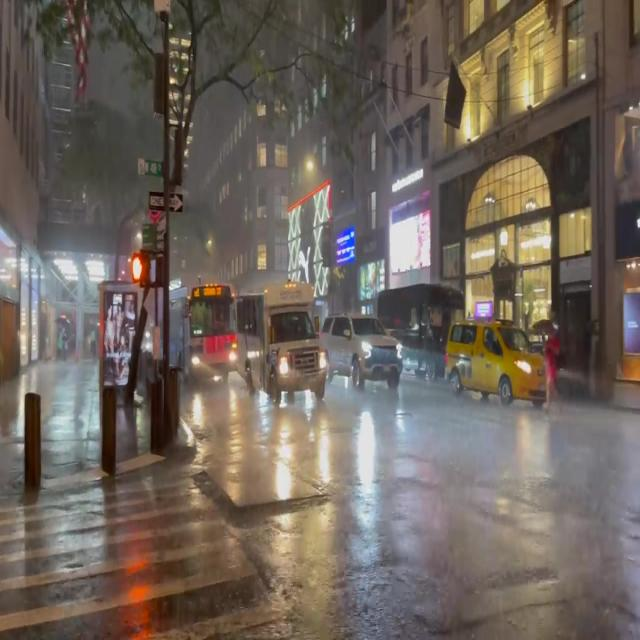Car: (448, 323, 543, 408), (323, 315, 400, 384)
